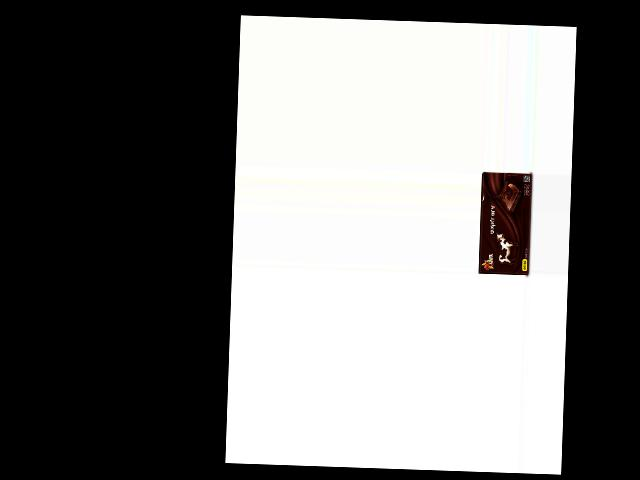chocolate: (477, 173, 532, 277)
